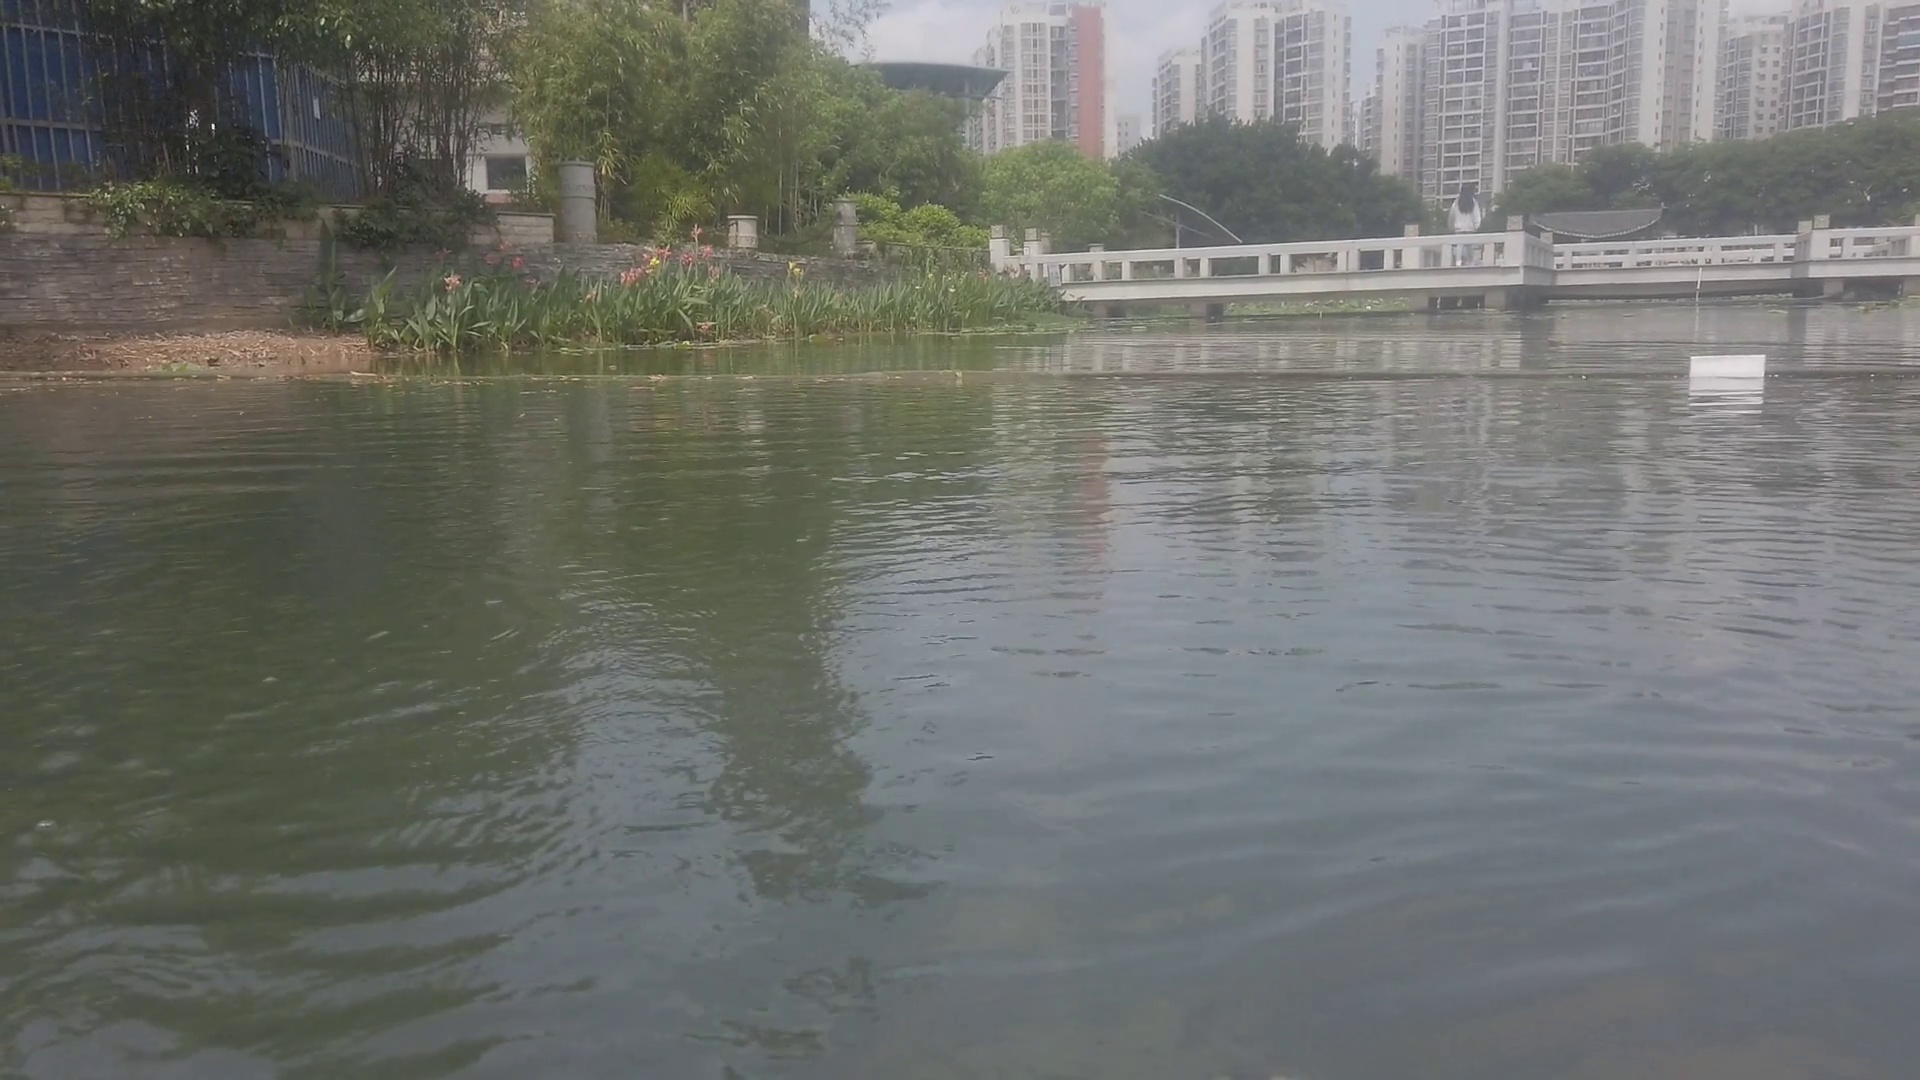carton: (1683, 351, 1768, 382)
